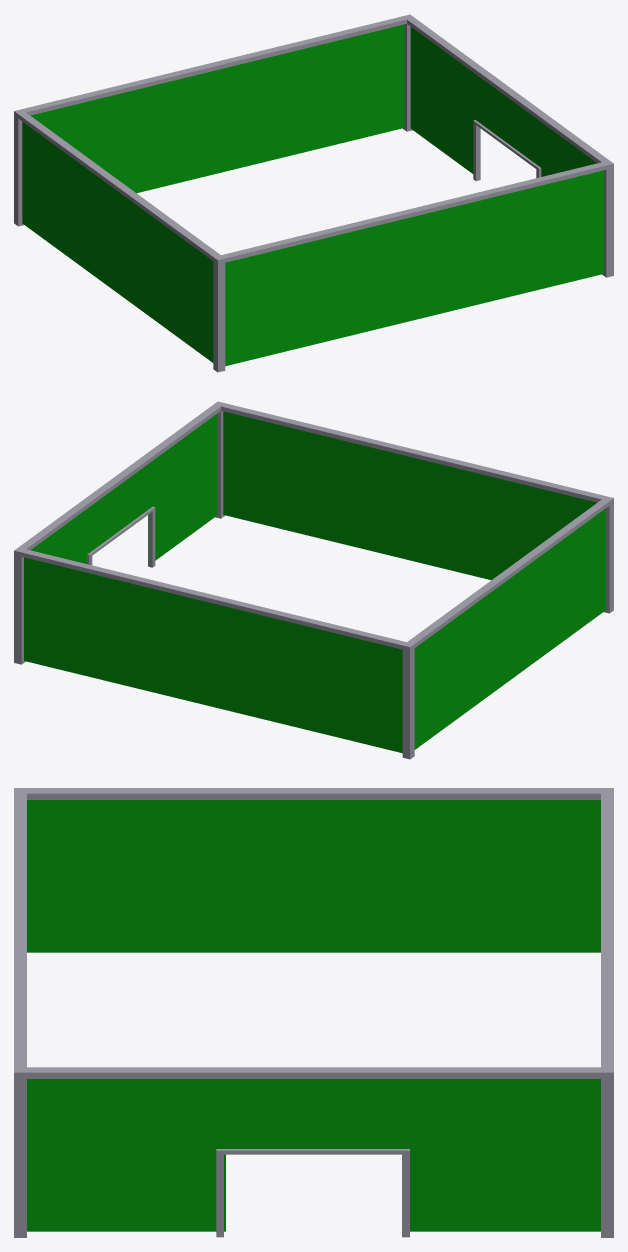
The model's file is Net.fbx.
The picture shows the model from 3 angles, top to bottom: view 1: azimuth 30°, elevation 25°; view 2: azimuth 150°, elevation 25°; view 3: azimuth 270°, elevation 25°; orthographic projection. The views are drawn at different scales.
Parts seen in each view (by area): view 1: p_04, p_02, p_01, p_03; view 2: p_02, p_04, p_01, p_03; view 3: p_01, p_03, p_02, p_04.
Boxes of the visible parts, x1,y1,x2,y2 form: p_04: (213,162,606,372); p_02: (14,16,412,220); p_01: (14,109,225,372); p_03: (403,14,613,277); p_02: (18,549,414,753); p_04: (221,403,613,604); p_01: (402,496,613,759); p_03: (14,401,224,664); p_01: (14,788,613,952); p_03: (14,1067,613,1237); p_02: (601,793,613,1237); p_04: (14,789,26,1067).
Bounding box in the file's own units: 1578 × 428 × 1406.
